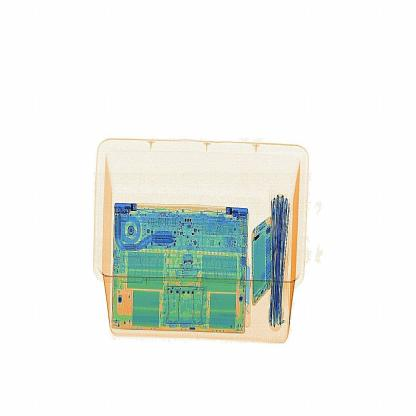pliers: (240, 254, 256, 336)
